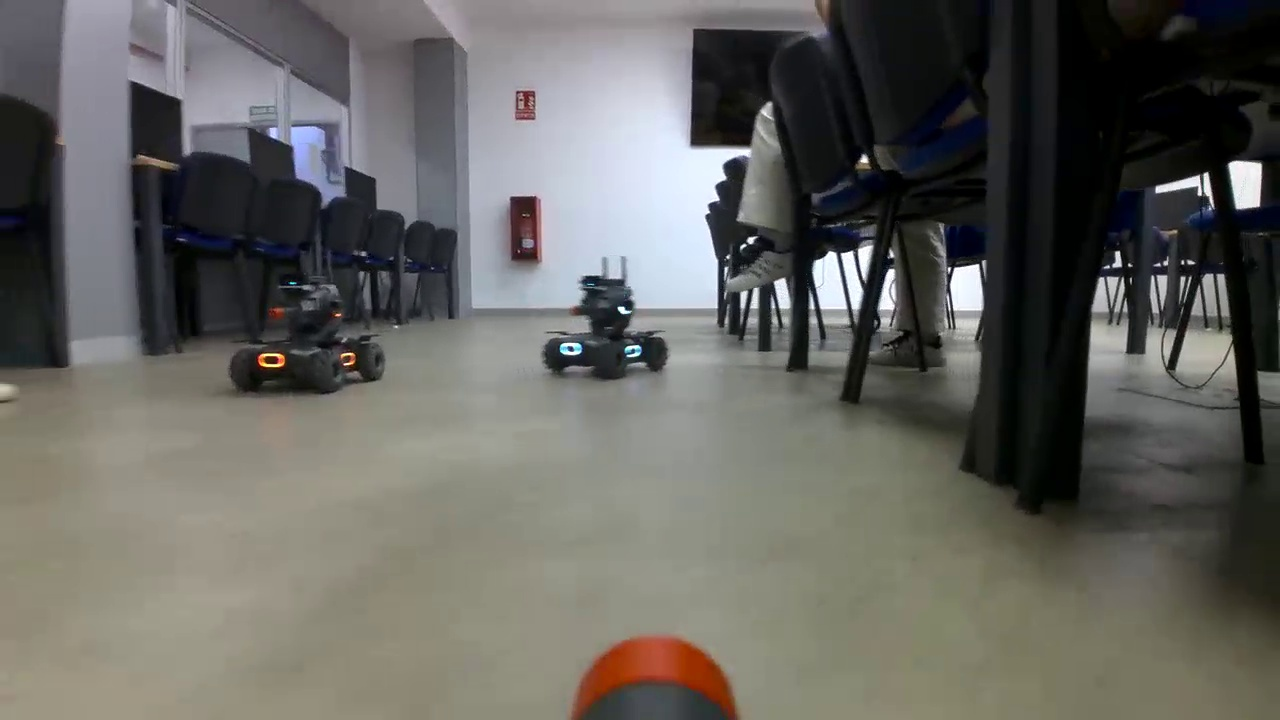robot: (228, 285, 388, 392), (543, 280, 670, 378)
